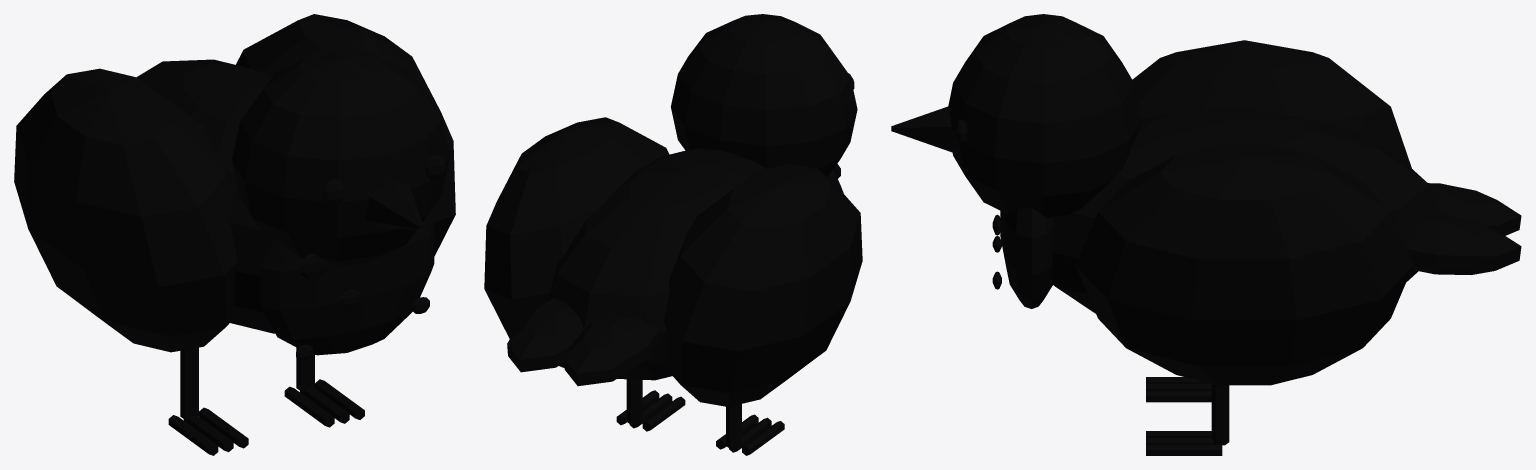
The model's file is perched.glb.
The picture shows the model from 3 angles, left to right: view 1: azimuth 30°, elevation 25°; view 2: azimuth 150°, elevation 25°; view 3: azimuth 270°, elevation 25°; orthographic projection. The views are drawn at different scales.
Parts seen in each view (by area): view 1: Wing_L, Head, SpeckledBreast, Body, Wing_R, Beak, Leg_L, Toe_L_0, Toe_R_0, Toe_L_2, Toe_R_2, Toe_L_1 (+5 smaller); view 2: Wing_L, Head, Body, Wing_R, Tail_L, Tail_R, Leg_R, Leg_L, Toe_R_0, Toe_L_0, Toe_R_1, Toe_L_1; view 3: Wing_R, Head, Body, Wing_L, Tail_R, SpeckledBreast, Tail_L, Beak, Leg_R, Toe_R_2, Toe_L_2.
Part boxes in pixels (x1=…): Wing_L: x1=14, y1=68, x2=237, y2=352; Head: x1=232, y1=48, x2=449, y2=265; SpeckledBreast: x1=260, y1=215, x2=434, y2=355; Body: x1=137, y1=59, x2=274, y2=333; Wing_R: x1=236, y1=14, x2=455, y2=256; Beak: x1=365, y1=181, x2=423, y2=229; Leg_L: x1=180, y1=347, x2=198, y2=419; Toe_L_0: x1=168, y1=415, x2=218, y2=455; Toe_R_0: x1=284, y1=386, x2=334, y2=427; Toe_L_2: x1=199, y1=407, x2=248, y2=448; Toe_R_2: x1=315, y1=379, x2=364, y2=419; Toe_L_1: x1=183, y1=415, x2=233, y2=452; Wing_L: x1=664, y1=164, x2=862, y2=406; Head: x1=671, y1=14, x2=857, y2=176; Body: x1=547, y1=148, x2=767, y2=380; Wing_R: x1=484, y1=117, x2=669, y2=367; Tail_L: x1=564, y1=317, x2=660, y2=386; Tail_R: x1=507, y1=298, x2=583, y2=372; Leg_R: x1=626, y1=379, x2=642, y2=424; Leg_L: x1=726, y1=404, x2=741, y2=448; Toe_R_0: x1=642, y1=396, x2=685, y2=431; Toe_L_0: x1=742, y1=421, x2=784, y2=455; Toe_R_1: x1=629, y1=393, x2=672, y2=428; Toe_L_1: x1=729, y1=417, x2=771, y2=452; Wing_R: x1=1075, y1=145, x2=1413, y2=385; Head: x1=948, y1=14, x2=1141, y2=218; Body: x1=1051, y1=108, x2=1441, y2=313; Wing_L: x1=1132, y1=40, x2=1411, y2=168; Tail_R: x1=1404, y1=214, x2=1521, y2=274; SpeckledBreast: x1=1000, y1=207, x2=1053, y2=308; Tail_L: x1=1428, y1=183, x2=1521, y2=235; Beak: x1=891, y1=106, x2=955, y2=152; Leg_R: x1=1211, y1=384, x2=1229, y2=445; Toe_R_2: x1=1146, y1=445, x2=1222, y2=455; Toe_L_2: x1=1146, y1=391, x2=1211, y2=402.
Bounding box in the file's own units: 0.1443 × 0.1586 × 0.2274.
9 materials, 9 textured.
